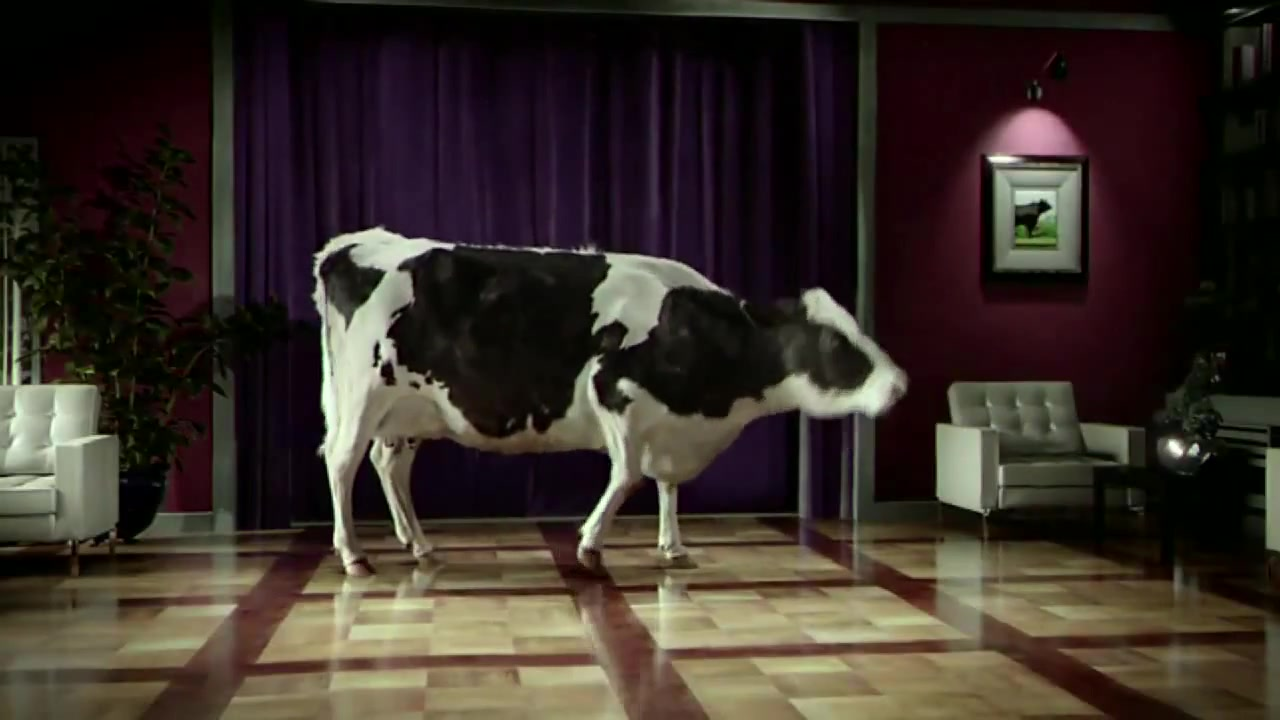cow: (308, 228, 914, 581)
